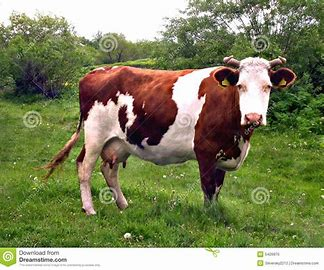waka: (46, 44, 300, 214)
